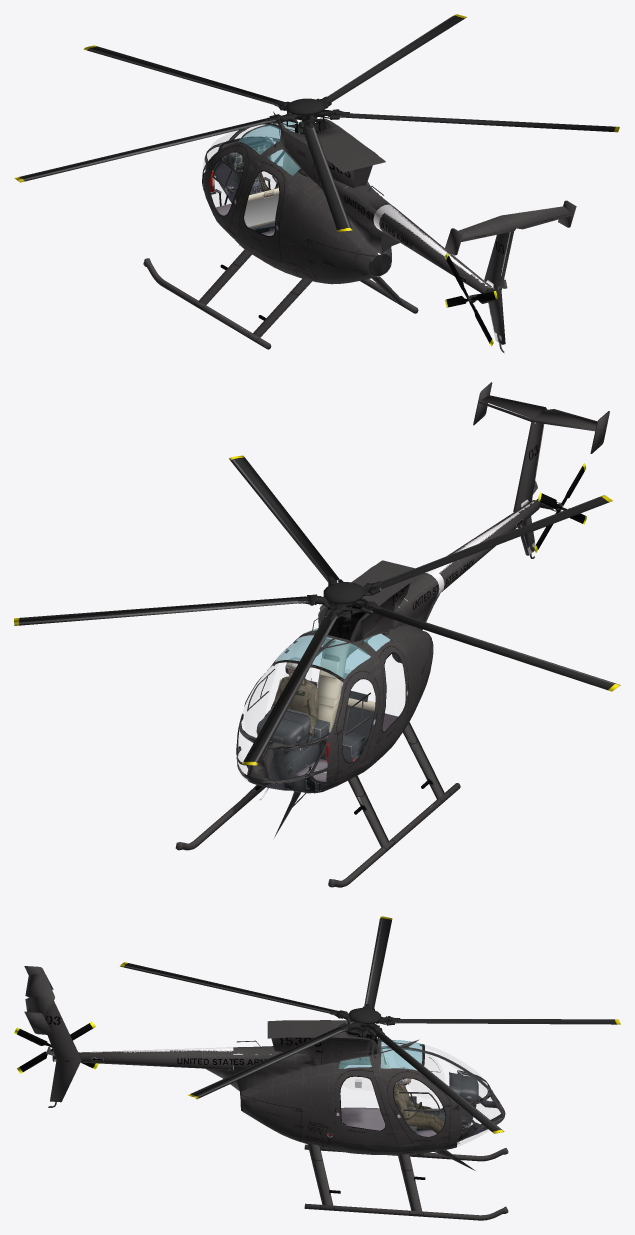
The picture shows the model from 3 angles, top to bottom: view 1: azimuth 30°, elevation 25°; view 2: azimuth 150°, elevation 25°; view 3: azimuth 270°, elevation 25°; orthographic projection. The views are drawn at different scales.
Parts seen in each view (by area): view 1: ext_fuselage1, rotor_main, ext_fuselage2, ext_tail, glasss_grn, int_seats2, int_console, rotor_tail, glass; view 2: rotor_main, ext_fuselage1, ext_fuselage2, ext_tail, int_console, glasss_grn, int_seats2, int_fuselage3, int_pilotR, glass, rotor_tail; view 3: ext_fuselage1, ext_fuselage2, rotor_main, ext_tail, glass, int_pilotR, glasss_grn, int_console, rotor_tail.
Boxes of the visible parts, bbox=[...] form: ext_fuselage1: bbox=[202, 111, 391, 278]; rotor_main: bbox=[14, 14, 619, 231]; ext_fuselage2: bbox=[143, 118, 418, 349]; ext_tail: bbox=[344, 183, 576, 353]; glasss_grn: bbox=[239, 121, 299, 175]; int_seats2: bbox=[238, 188, 279, 233]; int_console: bbox=[210, 137, 273, 194]; rotor_tail: bbox=[444, 253, 497, 346]; glass: bbox=[203, 125, 275, 206]; rotor_main: bbox=[14, 455, 620, 765]; ext_fuselage1: bbox=[244, 579, 439, 837]; ext_fuselage2: bbox=[175, 560, 460, 887]; ext_tail: bbox=[404, 382, 609, 621]; int_console: bbox=[256, 706, 329, 788]; glasss_grn: bbox=[275, 628, 389, 678]; int_seats2: bbox=[278, 679, 381, 762]; int_fuselage3: bbox=[317, 637, 371, 732]; int_pilotR: bbox=[271, 657, 318, 742]; glass: bbox=[238, 664, 311, 792]; rotor_tail: bbox=[534, 463, 586, 552]; ext_fuselage1: bbox=[233, 1027, 495, 1170]; ext_fuselage2: bbox=[240, 1020, 508, 1220]; rotor_main: bbox=[120, 916, 620, 1133]; ext_tail: bbox=[24, 966, 281, 1107]; glass: bbox=[343, 1045, 500, 1146]; int_pilotR: bbox=[393, 1067, 463, 1138]; glasss_grn: bbox=[338, 1040, 422, 1070]; int_console: bbox=[416, 1072, 478, 1135]; rotor_tail: bbox=[14, 1022, 98, 1073].
Size of the model in its own units: 7.48 by 3.44 by 9.23.
Materials: 11 (11 with a texture image).
